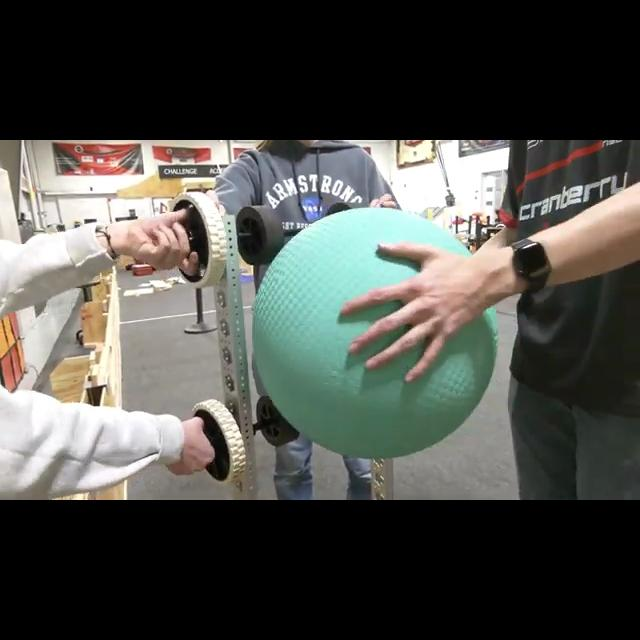ALGAE: (250, 205, 498, 459)
